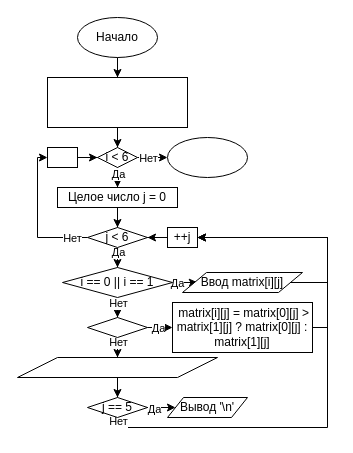
This 353x453 diagram has some shape labels left out. The shapes that lost their labels are listed below. From the top down, each one's centre as x and y in pixels, then its label:
(x=117, y=102): Массив вещественных чисел matrix[3][6] Целое число i = 0
(x=62, y=157): ++i
(x=207, y=157): Конец
(x=117, y=327): i == 2
(x=117, y=367): Вывод matrix[i % 3][j]
